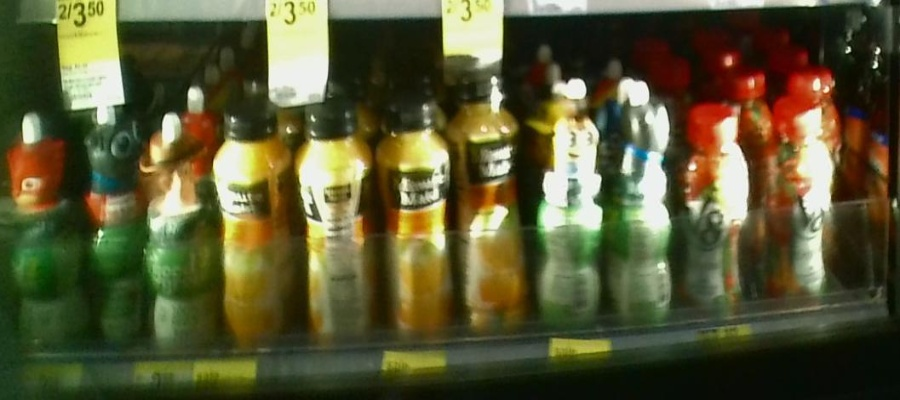bottle: (294, 92, 375, 351), (213, 88, 290, 356), (453, 72, 526, 337), (532, 71, 604, 334), (376, 99, 450, 341), (7, 111, 81, 341), (676, 93, 749, 310), (605, 75, 669, 322), (146, 112, 211, 353), (82, 104, 144, 346), (762, 96, 828, 311)
